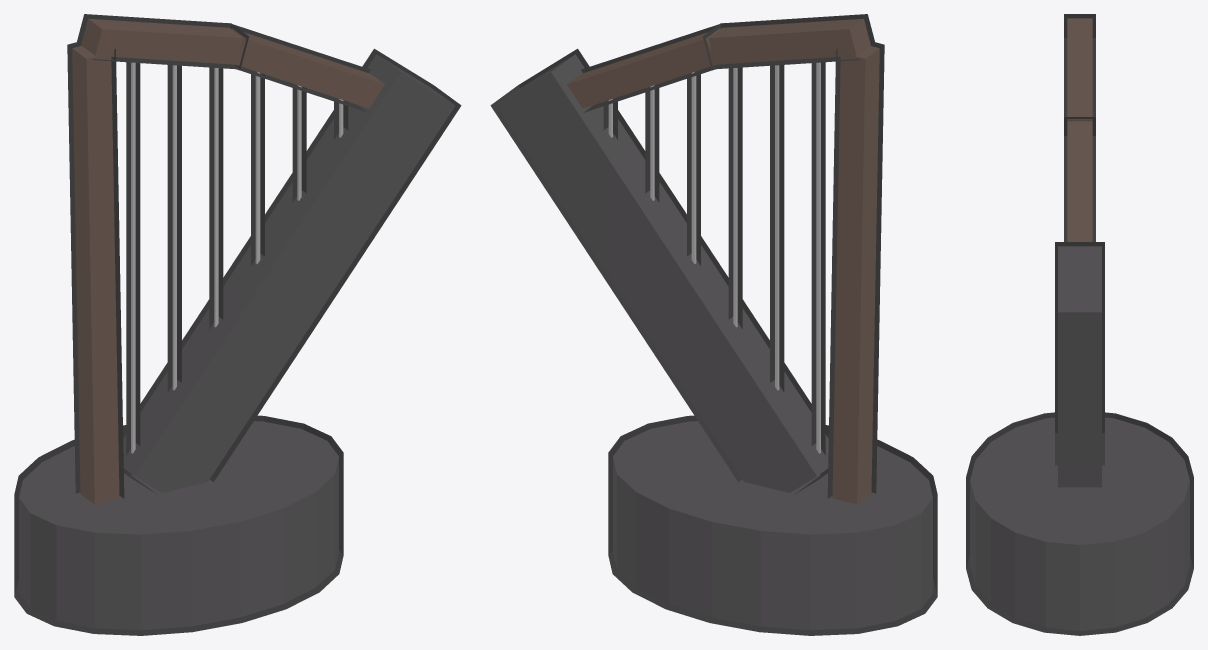
Rendered from Building_Harp.glb.
3 views of the same model, side by side, from view 1: azimuth 30°, elevation 25°; view 2: azimuth 150°, elevation 25°; view 3: azimuth 270°, elevation 25° (orthographic). The views are drawn at different scales.
Parts seen in each view (by area): view 1: Harp, Outline; view 2: Harp, Outline; view 3: Harp, Outline.
Part boxes in pixels (x1=…): Harp: x1=19, y1=18, x2=455, y2=630; Outline: x1=14, y1=14, x2=461, y2=635; Harp: x1=496, y1=18, x2=932, y2=630; Outline: x1=490, y1=14, x2=937, y2=635; Harp: x1=970, y1=18, x2=1189, y2=630; Outline: x1=966, y1=14, x2=1193, y2=635.
Bounding box in the file's own units: 1.19 × 1.56 × 0.6219.
2 materials, 1 textured.
